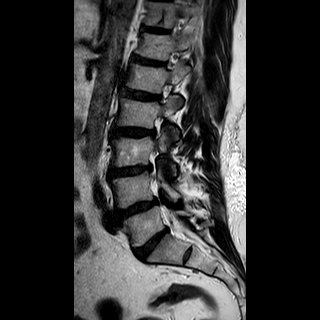LFS0: (144, 111, 169, 144), (151, 76, 175, 108)
